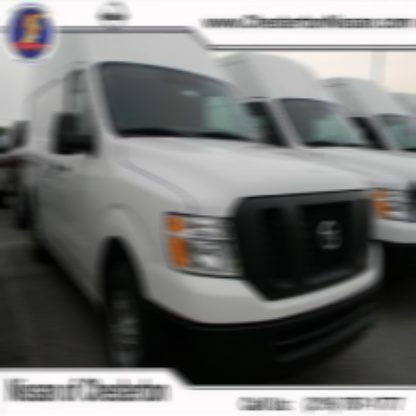Vehicle: (8, 1, 398, 390)
